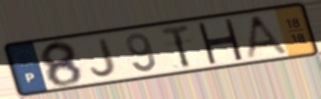8: (37, 39, 87, 89)
9: (124, 31, 158, 73)
A: (243, 13, 291, 61)
H: (194, 18, 245, 65)
J: (88, 36, 118, 79)
T: (158, 22, 193, 70)
